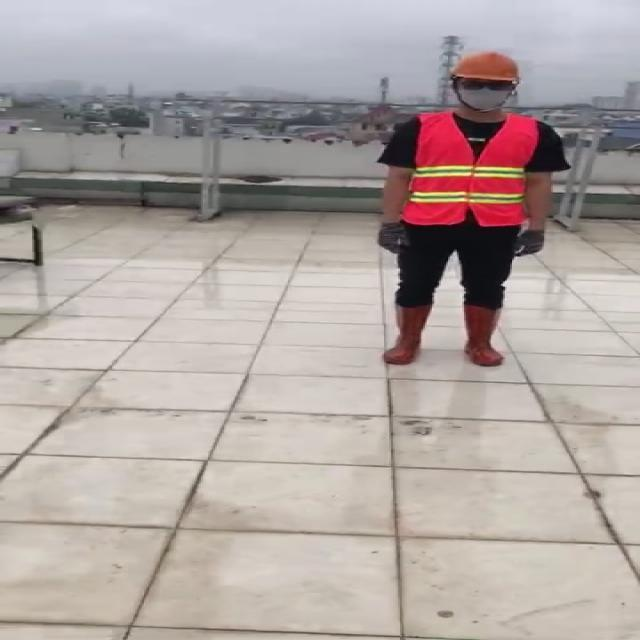gloves: (369, 216, 411, 260), (513, 224, 554, 264)
helmet: (447, 51, 530, 94)
safety_vest: (404, 106, 540, 228)
